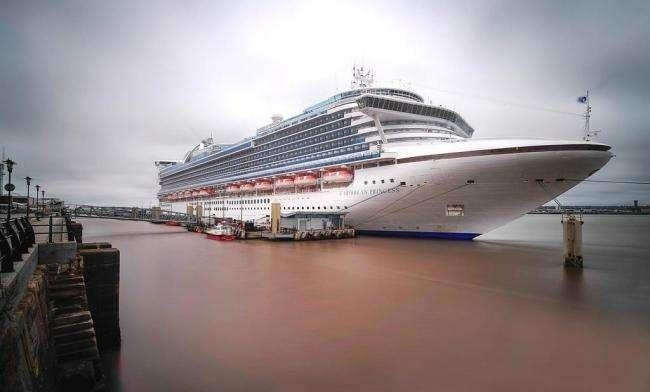youlun: (153, 62, 609, 228)
